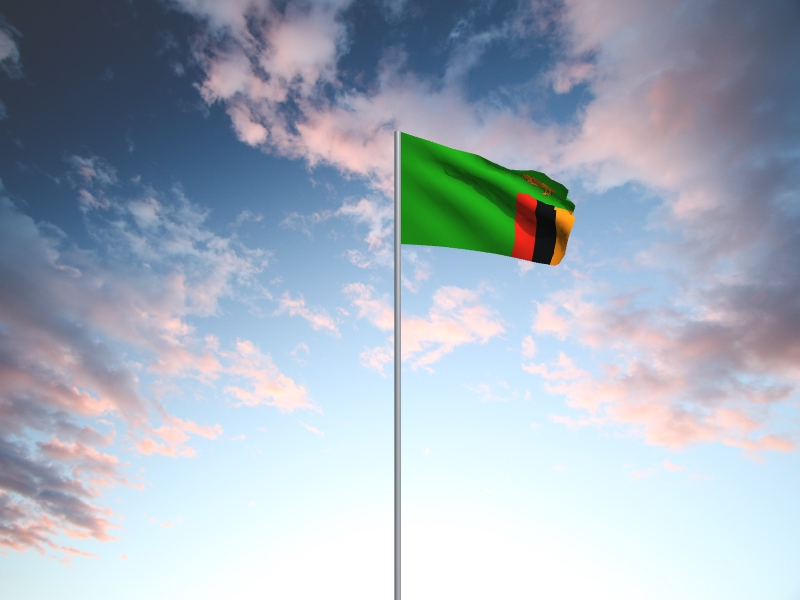zm: (401, 132, 577, 267)
